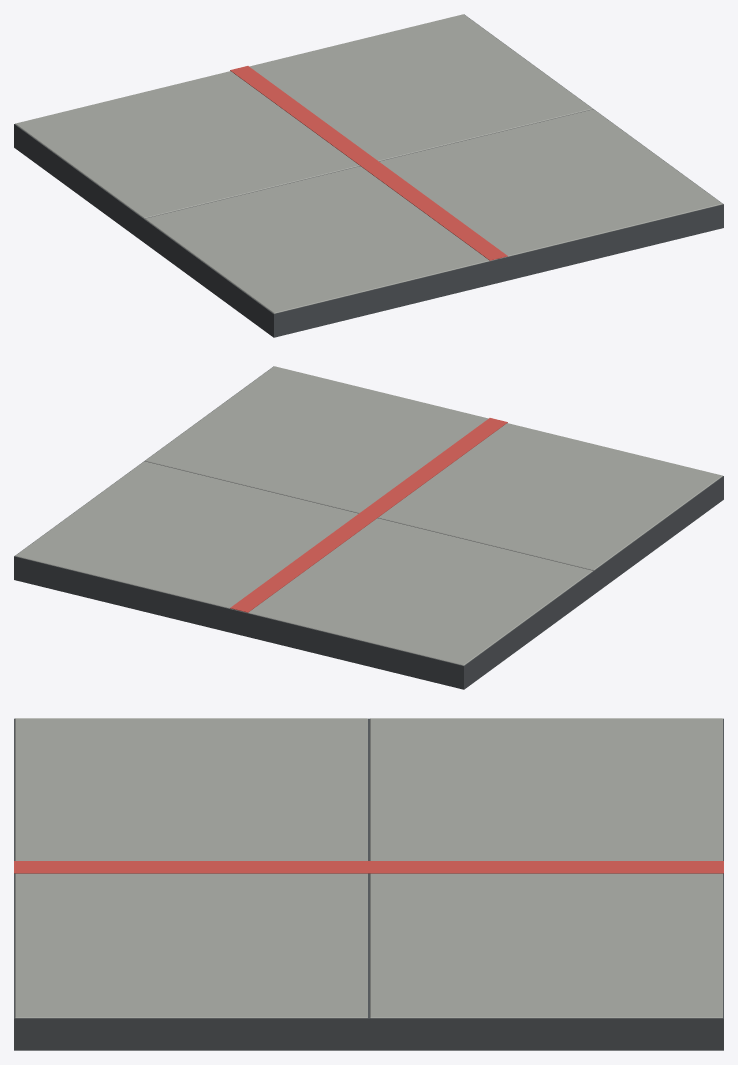
Rendered from floor_an_line.glb.
3 views of the same model, one above another, from view 1: azimuth 30°, elevation 25°; view 2: azimuth 150°, elevation 25°; view 3: azimuth 270°, elevation 25° (orthographic). The views are drawn at different scales.
Parts seen in each view (by area): view 1: floor_an_line; view 2: floor_an_line; view 3: floor_an_line.
Boxes of the visible parts, x1=… form: floor_an_line: x1=14, y1=14, x2=723, y2=337; floor_an_line: x1=14, y1=366, x2=723, y2=689; floor_an_line: x1=14, y1=718, x2=723, y2=1050.
Size of the model in its own units: 4 by 0.21 by 4.
